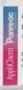ApplichemPanreac: (4, 12, 16, 80)
